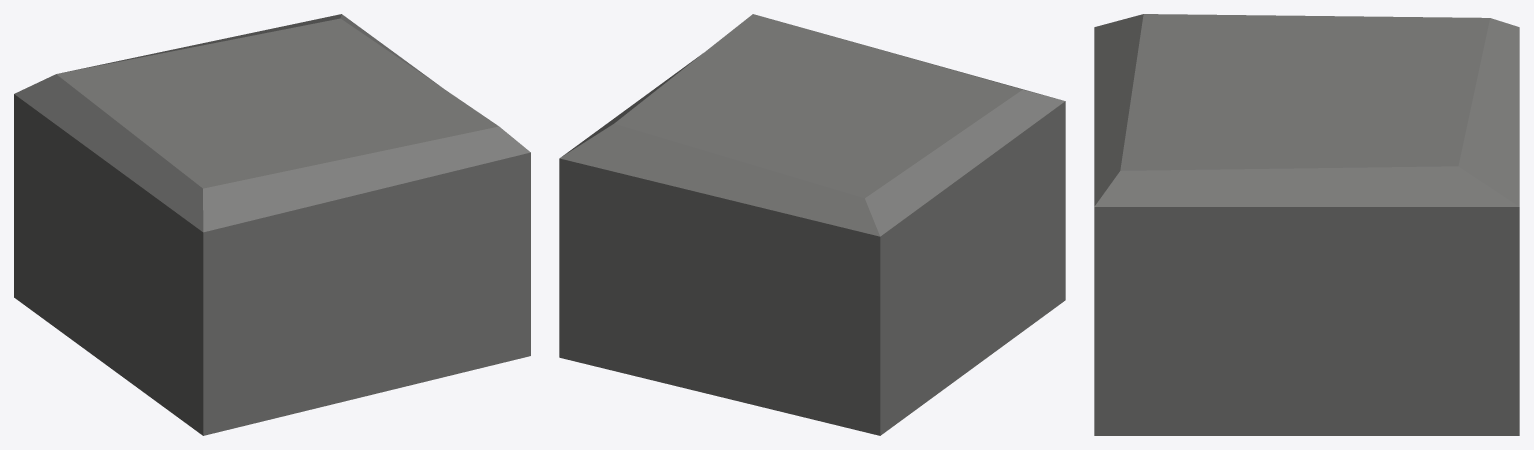
Rendered from SM_Bld_Roof_Side_Corner_01.glb.
3 views of the same model, side by side, from view 1: azimuth 30°, elevation 25°; view 2: azimuth 150°, elevation 25°; view 3: azimuth 270°, elevation 25° (orthographic). The views are drawn at different scales.
Parts seen in each view (by area): view 1: SM_Bld_Roof_Side_Corner_01; view 2: SM_Bld_Roof_Side_Corner_01; view 3: SM_Bld_Roof_Side_Corner_01.
Boxes of the visible parts, x1,y1,x2,y2 form: SM_Bld_Roof_Side_Corner_01: (14,14,530,435); SM_Bld_Roof_Side_Corner_01: (559,14,1065,435); SM_Bld_Roof_Side_Corner_01: (1094,14,1519,435).
Bounding box in the file's own units: 0.4168 × 0.2746 × 0.4168.
1 material, 1 textured.
